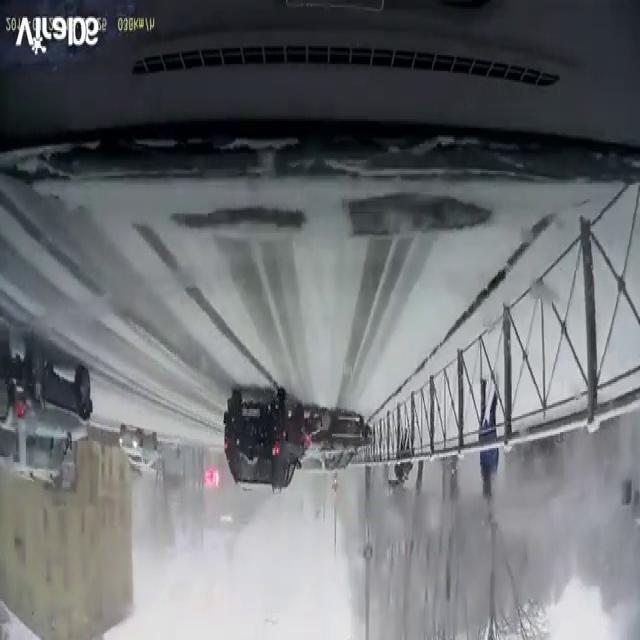moderate: (219, 379, 370, 503)
